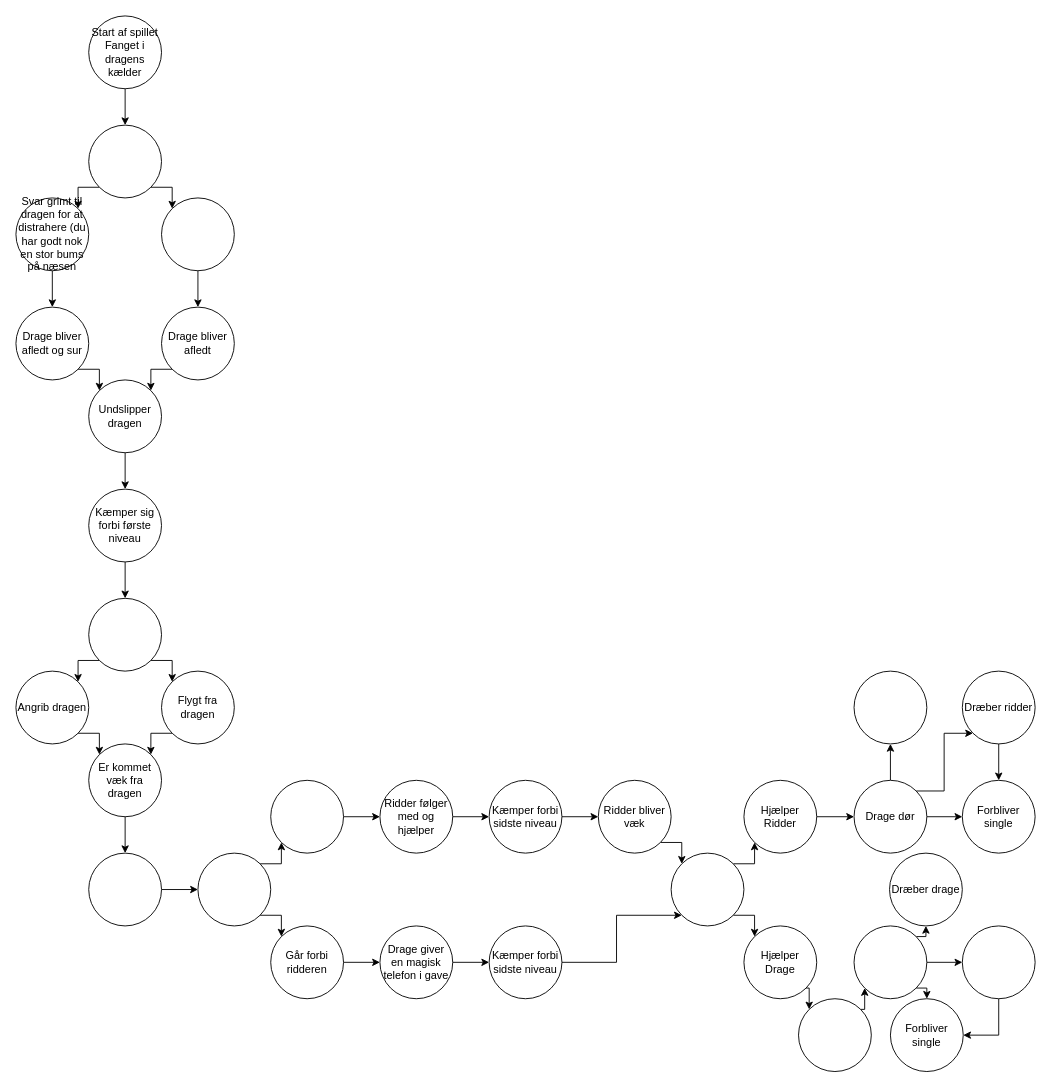
Some shapes in this 1051 by 1087 pixel diagram are drawn without their labels. The centre of each missing label's shape, as x and y in pixels:
"Bliver gift med drage" goes at (998,962).
"Bliver gift med ridder" goes at (890,707).
"Distraher uden at svare grimt (se en guld krone bag dig" goes at (197,234).
"Finder drage og ridder der slås" goes at (707,889).
"Finder ridder som er i knibe" goes at (234,889).
"Kæmper sig forbi andet niveau" goes at (125,889).
"Monolog fra dragen" goes at (125,161).
"Møder drage igen" goes at (125,634).
"Reder ridderen" goes at (307,816).
"Ridder bliver supercharged af kærlighed for dig" goes at (834,1035).
"Ridder dør" goes at (890,962).
